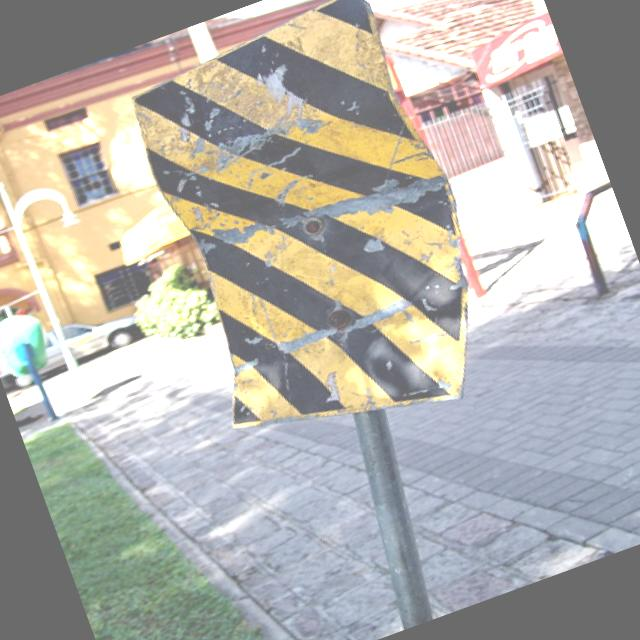Vehicle: (0, 301, 147, 394)
